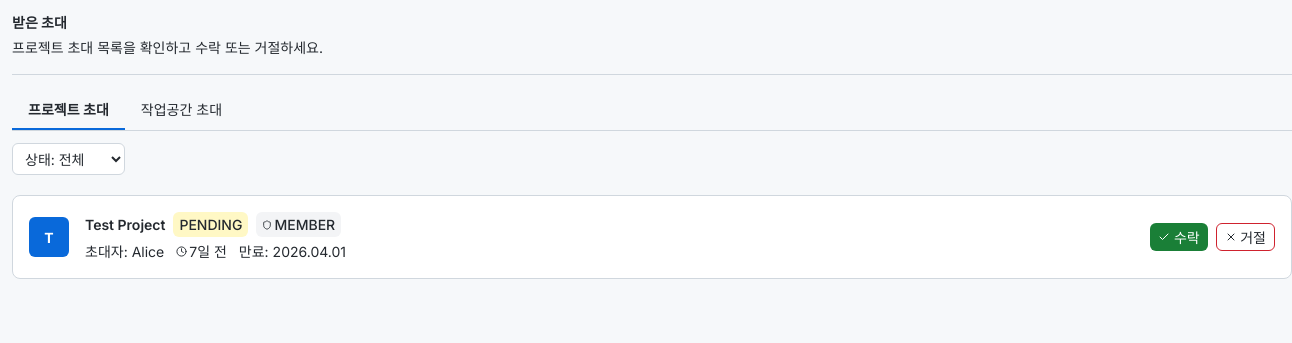
Test: InvitationsPage › shows error banner on API failure
This screenshot has width=1292, height=343.
Click the button "수락" at (1179, 237), box [1150,223,1208,251]
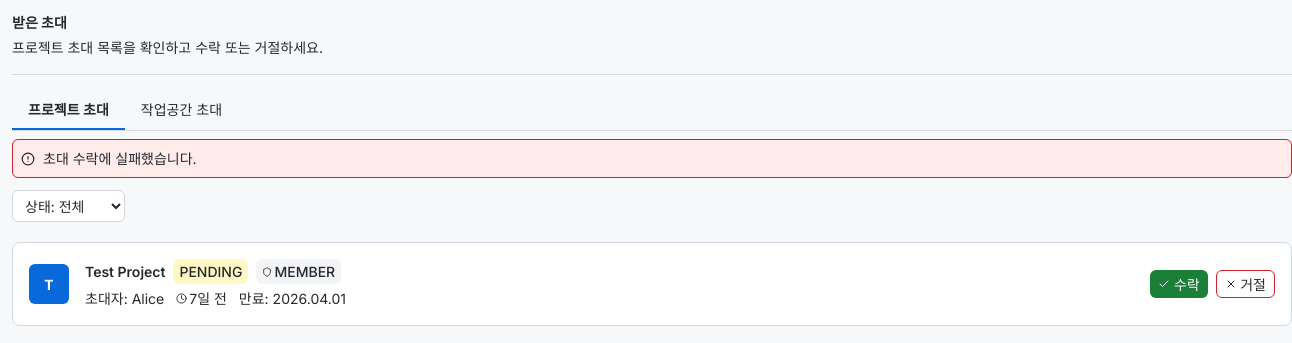
Now the text "초대 수락에 실패했습니다." is shown, box [12,139,1291,178]
